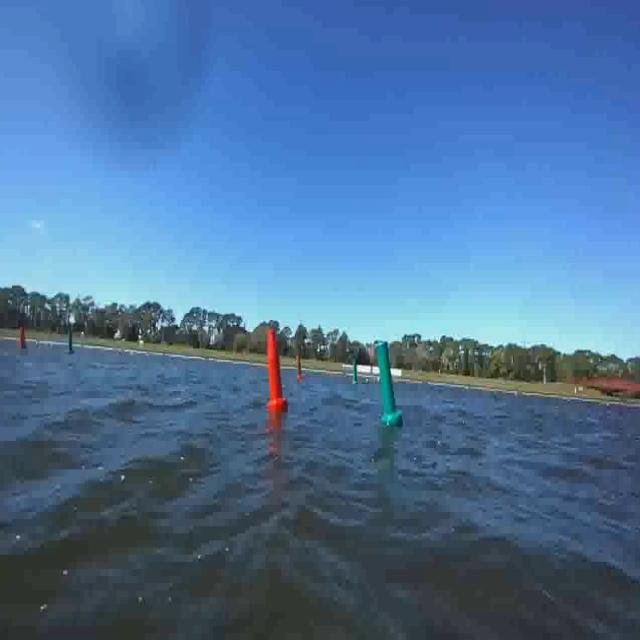green-column-buoy: (376, 340, 403, 426), (65, 323, 76, 357), (352, 357, 360, 385)
red-column-buoy: (266, 328, 287, 412), (294, 348, 305, 385), (17, 327, 27, 352)
